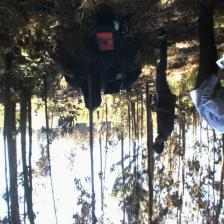trunktrack_idkeyframe: (4, 74, 17, 178), (87, 77, 94, 178), (20, 93, 27, 165), (44, 82, 48, 130)
